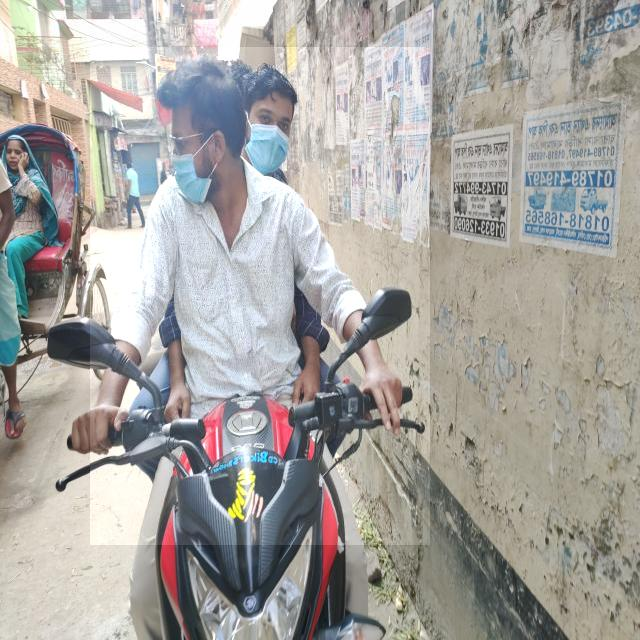Overloading: (90, 48, 430, 546)
